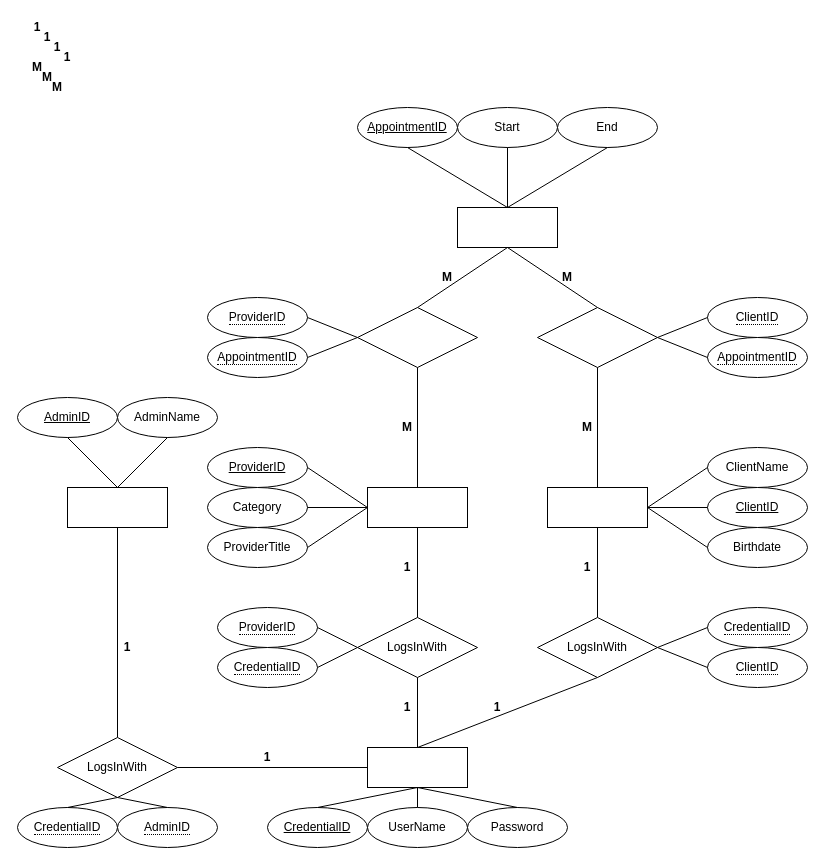
The diagram is 825 pixels wide and 865 high, and some of its shapes have lost their labels. Each missing label, with the box of its shape:
Admin: (66, 486, 168, 528)
AppointmentSlot: (456, 206, 558, 248)
BookedBy: (536, 306, 658, 368)
Client: (546, 486, 648, 528)
Credential: (366, 746, 468, 788)
ProvidedBy: (356, 306, 478, 368)
ServiceProvider: (366, 486, 468, 528)
